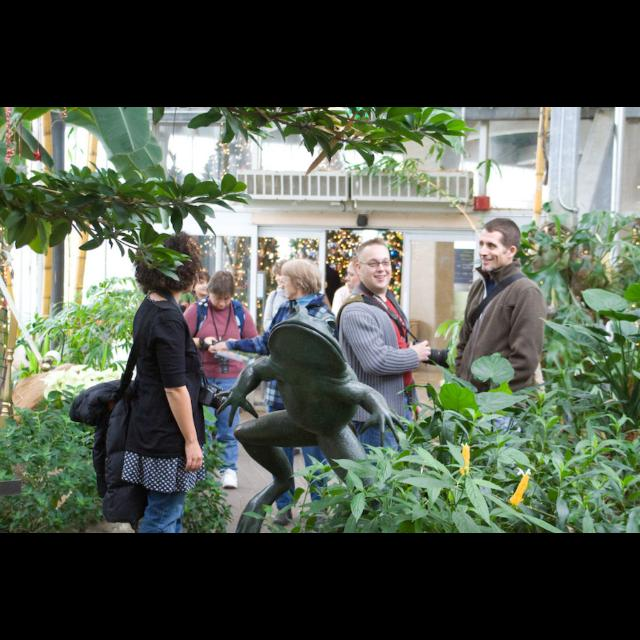Flower: (506, 473, 526, 515), (459, 444, 468, 474)
